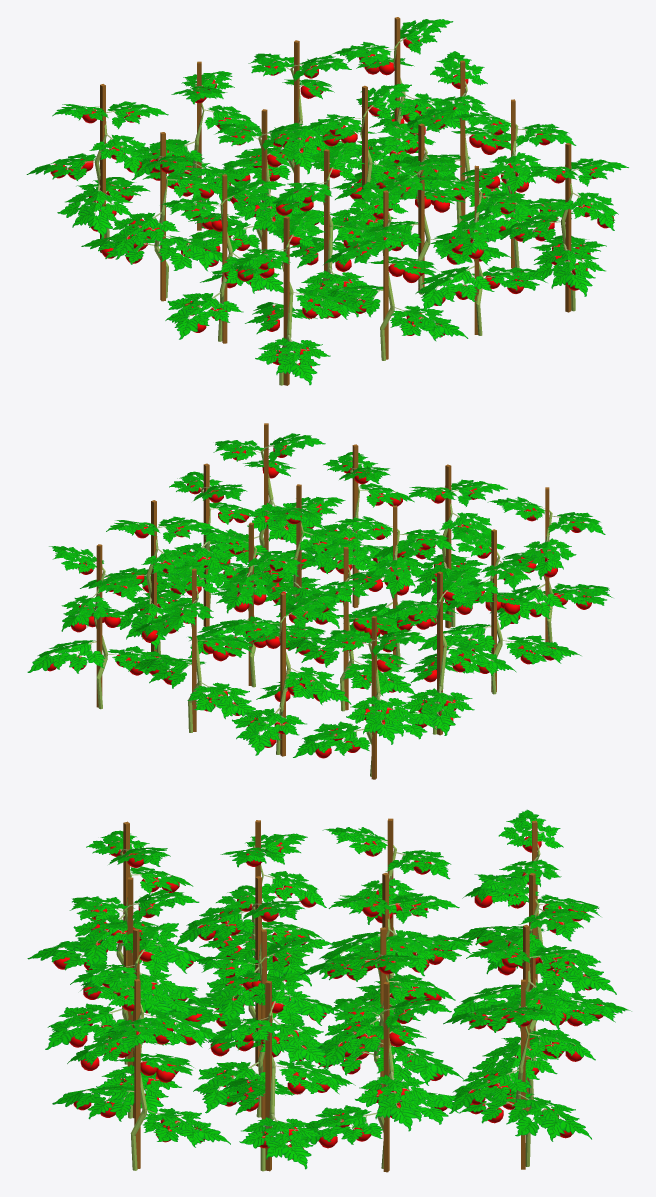
The model's file is Tomato_F3.fbx.
3 views of the same model, one above another, from view 1: azimuth 30°, elevation 25°; view 2: azimuth 150°, elevation 25°; view 3: azimuth 270°, elevation 25° (orthographic). The views are drawn at different scales.
Visible parts, largest first — view 1: Tomatoe_F3; view 2: Tomatoe_F3; view 3: Tomatoe_F3.
Boxes of the visible parts, x1,y1,x2,y2 form: Tomatoe_F3: (26, 17, 628, 385); Tomatoe_F3: (27, 423, 612, 779); Tomatoe_F3: (27, 809, 631, 1172).
Bounding box in the file's own units: 259 × 89.09 × 270.
